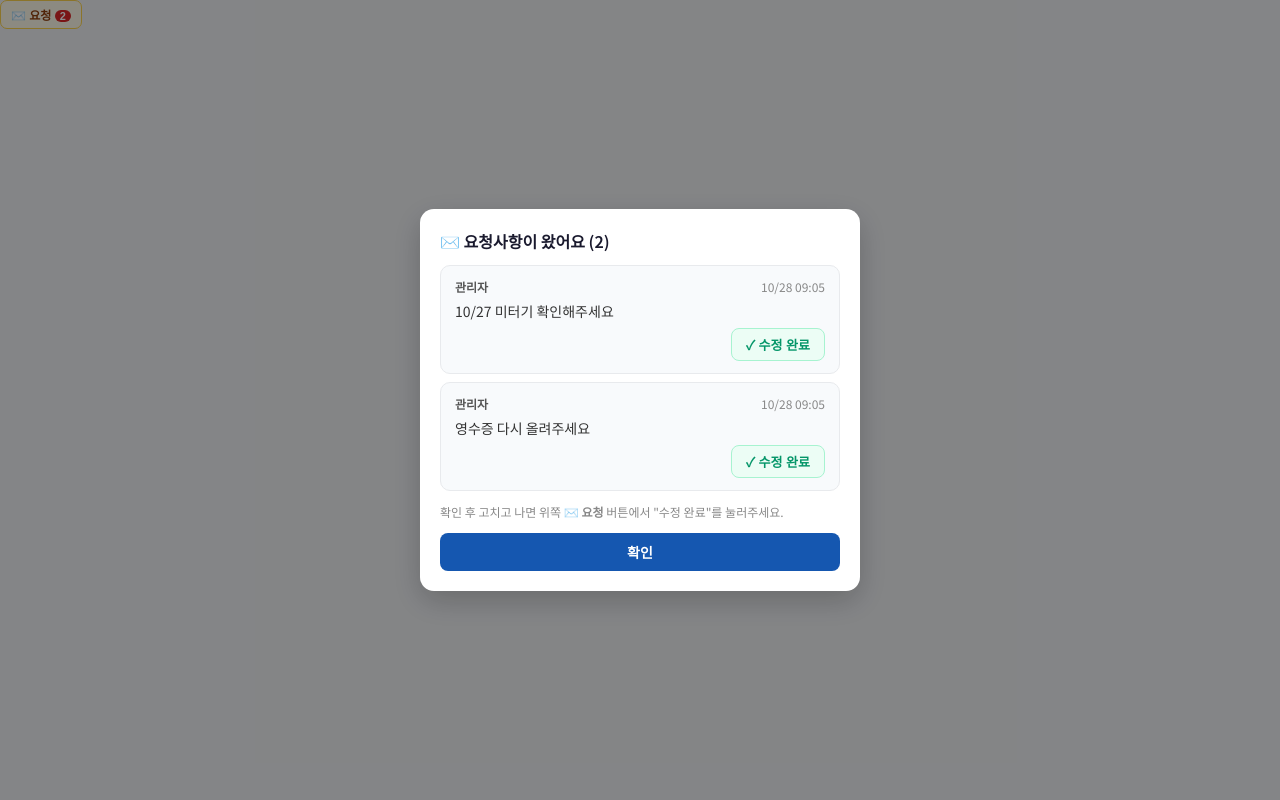
Test: 받는 사람 – 팝업 › 안 읽은 요청 → 팝업, 확인 누르면 닫히고 머리글 버튼에 남음
The width and height of the screenshot is (1280, 800).
expect the text "✉️ 요청사항이 왔어요 (2)" is shown: met, box [440,229,610,253]
expect the text "영수증 다시 올려주세요" is shown: met, box [455,418,590,438]
Step 1. Click the button "확인" → (640, 552), box [440,533,840,571]
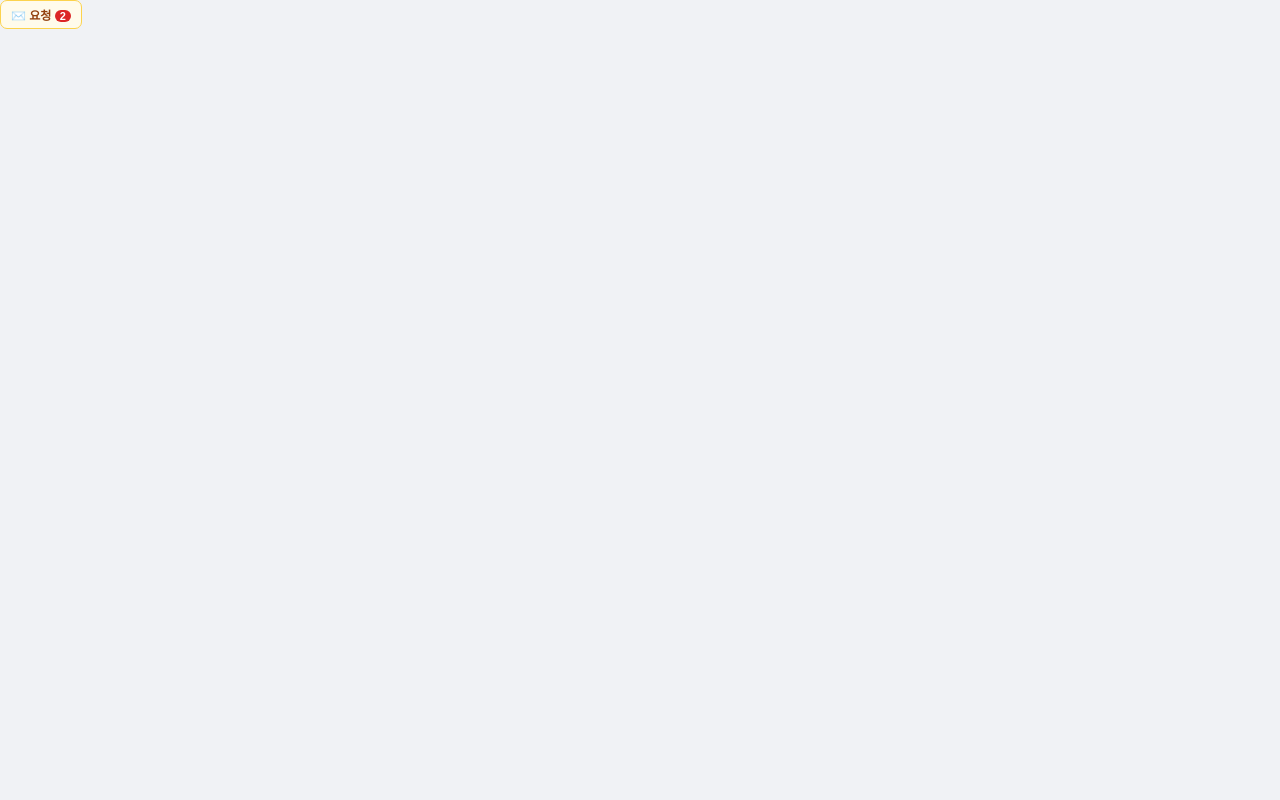
expect the text "2" is shown: met, box [55,10,71,22]
expect the text "요청사항이 왔어요" is gone: met
